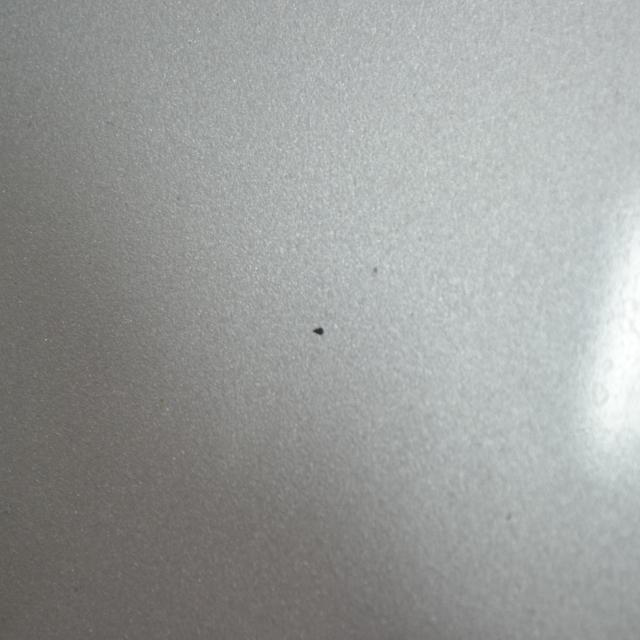dirt: (308, 323, 326, 341), (370, 263, 379, 277)
